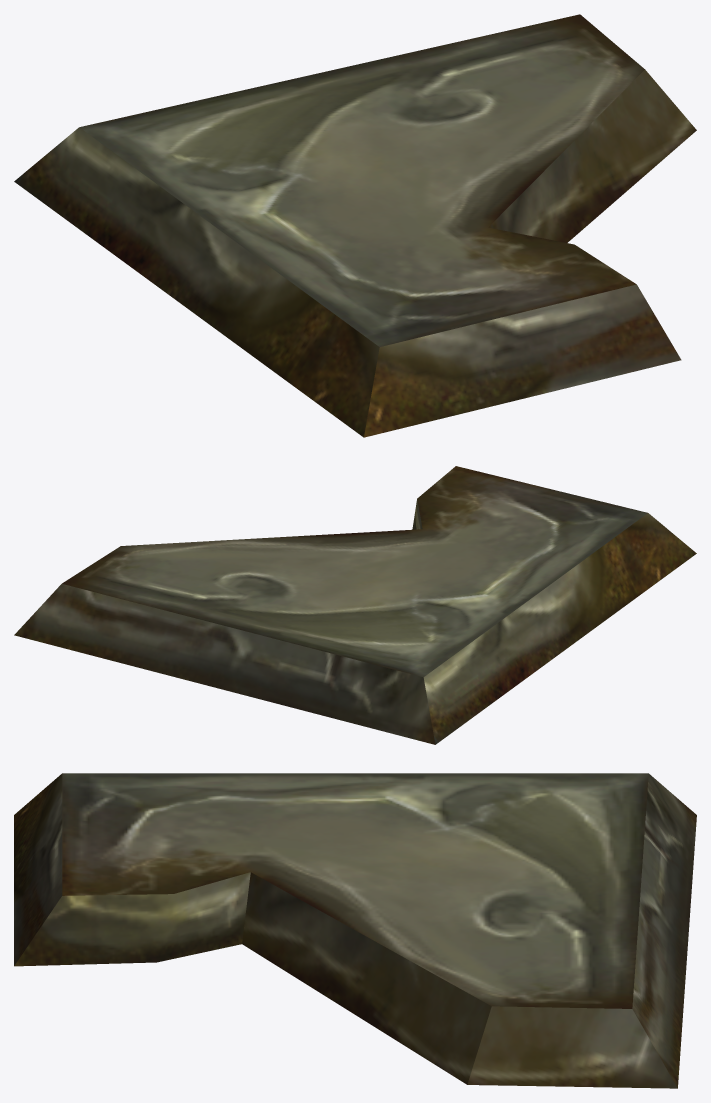
Rendered from C_dizhuan006.fbx.
The picture shows the model from 3 angles, top to bottom: view 1: azimuth 30°, elevation 25°; view 2: azimuth 150°, elevation 25°; view 3: azimuth 270°, elevation 25°; orthographic projection. The views are drawn at different scales.
Visible parts, largest first — view 1: C_dizhuan006; view 2: C_dizhuan006; view 3: C_dizhuan006.
Boxes of the visible parts, x1,y1,x2,y2 form: C_dizhuan006: (14, 14, 696, 437); C_dizhuan006: (14, 466, 696, 744); C_dizhuan006: (14, 773, 696, 1088).
Size of the model in its own units: 175 by 18.42 by 185.
